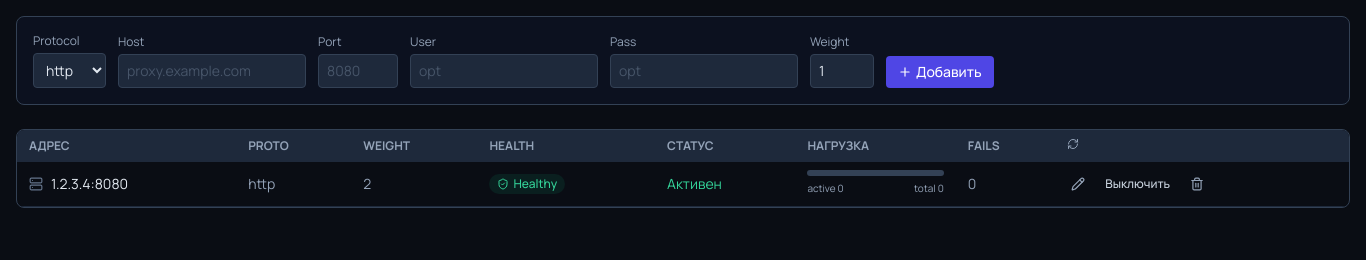
Test: cancel button closes edit form
Click the button named "изменить" at (1078, 184), box [1067, 173, 1089, 195]
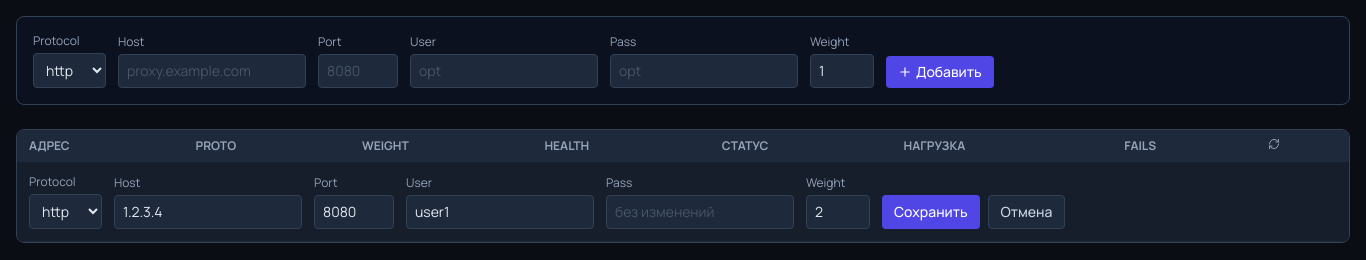
Click the button "Отмена" at (1027, 212), box [988, 195, 1066, 229]
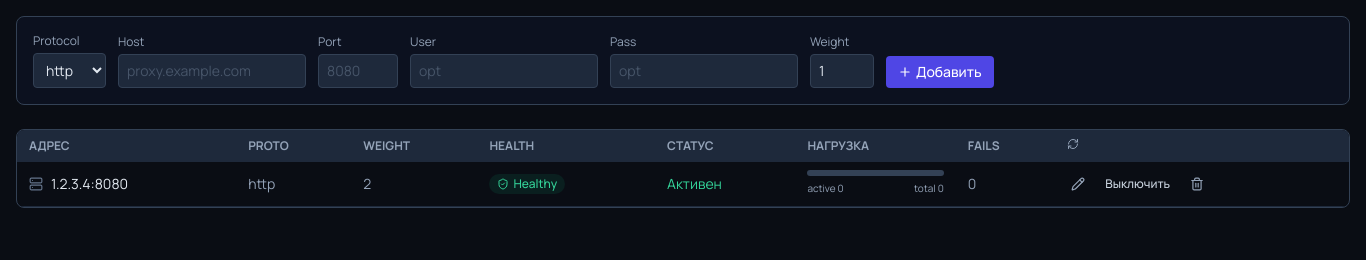
Now the button "Сохранить" is gone
Now the button named "изменить" is shown, box [1067, 173, 1089, 195]
